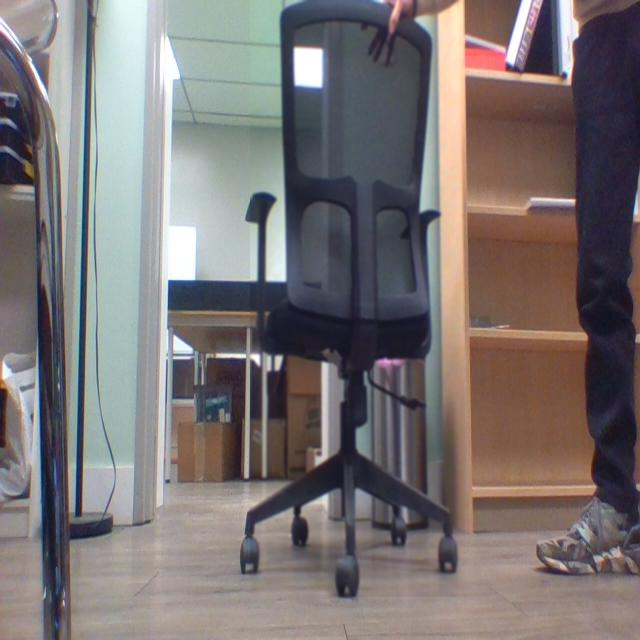black-chair: (250, 0, 466, 598)
